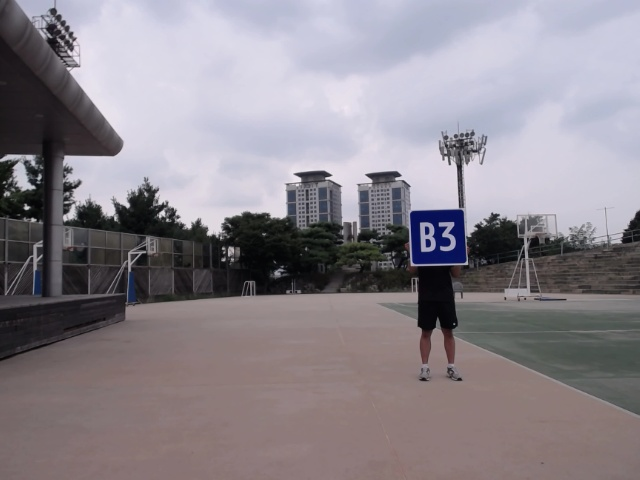delivery_b3: (408, 209, 470, 268)
